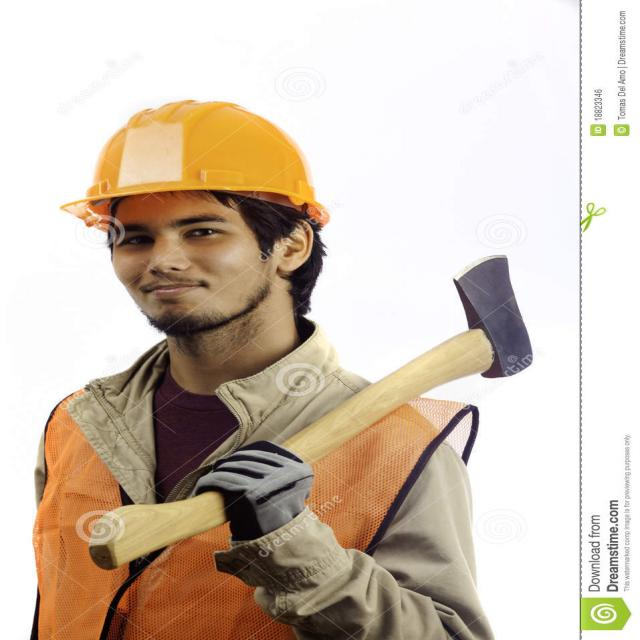Reflective-Jacket: (27, 356, 464, 637)
Safety-Helmet: (62, 96, 329, 214)
